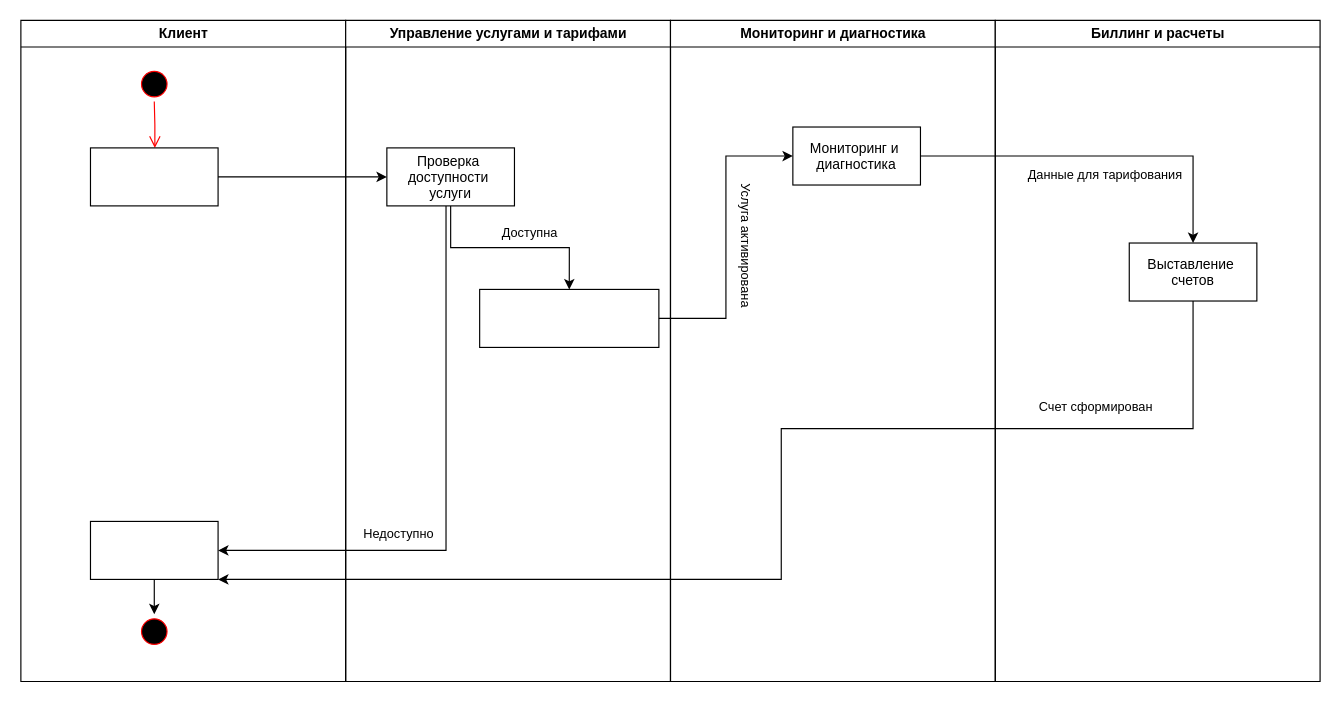
This 1340x702 diagram has some shape labels left out. Each missing label, with the box of its shape:
Запрос на услугу: (89, 147, 218, 206)
Отправка уведомление пользователю: (89, 520, 218, 579)
Подключение/изменение услуги: (478, 288, 659, 347)
